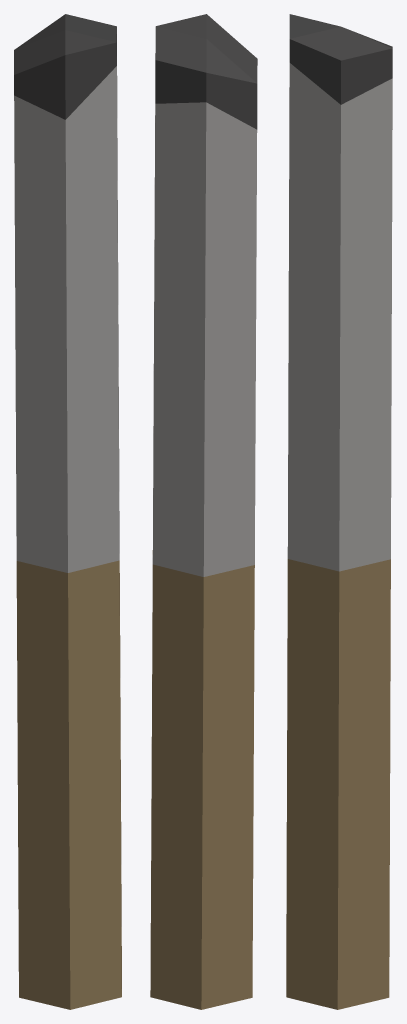
Rendered from SM_Prop_Cigarette_01.fbx.
3 renders of one model, left to right at view 1: azimuth 30°, elevation 25°; view 2: azimuth 210°, elevation 25°; view 3: azimuth 270°, elevation 25°, orthographic.
Visible parts, largest first — view 1: SM_Prop_Cigarette_01; view 2: SM_Prop_Cigarette_01; view 3: SM_Prop_Cigarette_01.
Boxes of the visible parts, box(x1,y1,x2,y2) form: SM_Prop_Cigarette_01: box(14, 14, 121, 1009); SM_Prop_Cigarette_01: box(150, 14, 257, 1009); SM_Prop_Cigarette_01: box(286, 14, 392, 1009).
Size of the model in its own units: 0.9556 by 8.21 by 0.8289.
